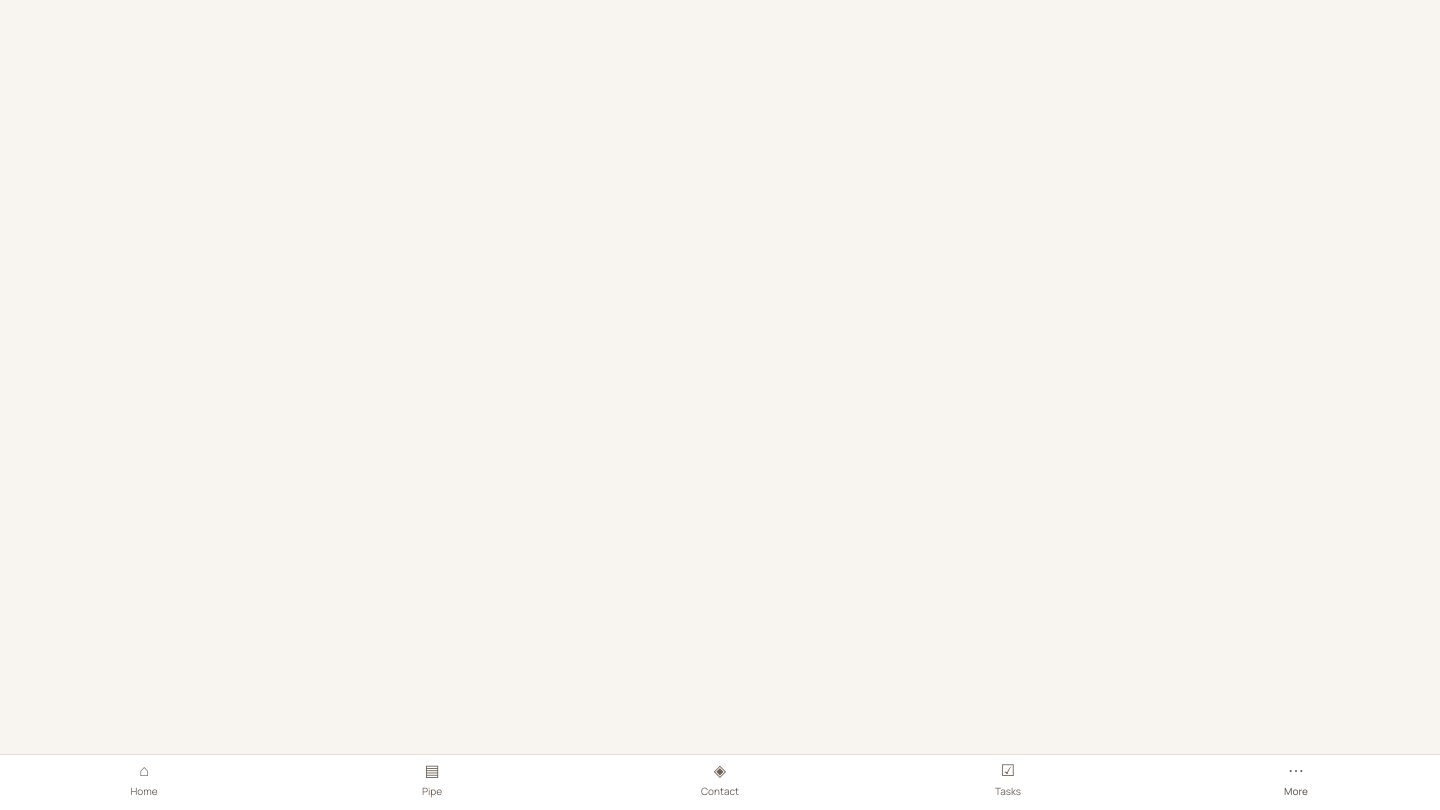
Test: MobileNav › shows Team links but not Configurations for a manager
This screenshot has width=1440, height=810.
Click the button "⋯ More" at (1296, 782), box 1152,755 -> 1439,809
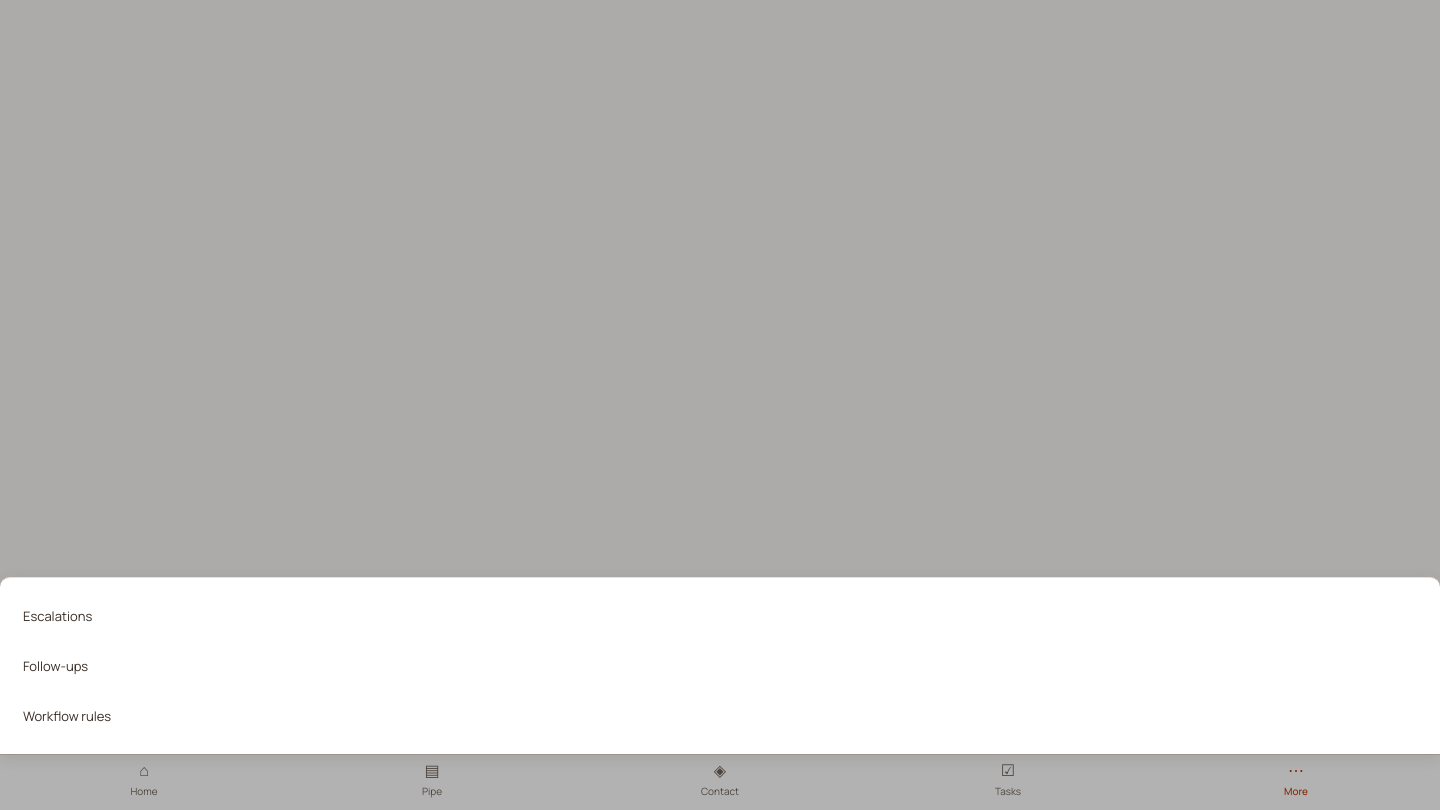
Result: the link "Escalations" is shown at 23,607 -> 92,625
Result: the link "Follow-ups" is shown at 23,657 -> 88,675
Result: the link "Workflow rules" is shown at 23,707 -> 111,725
